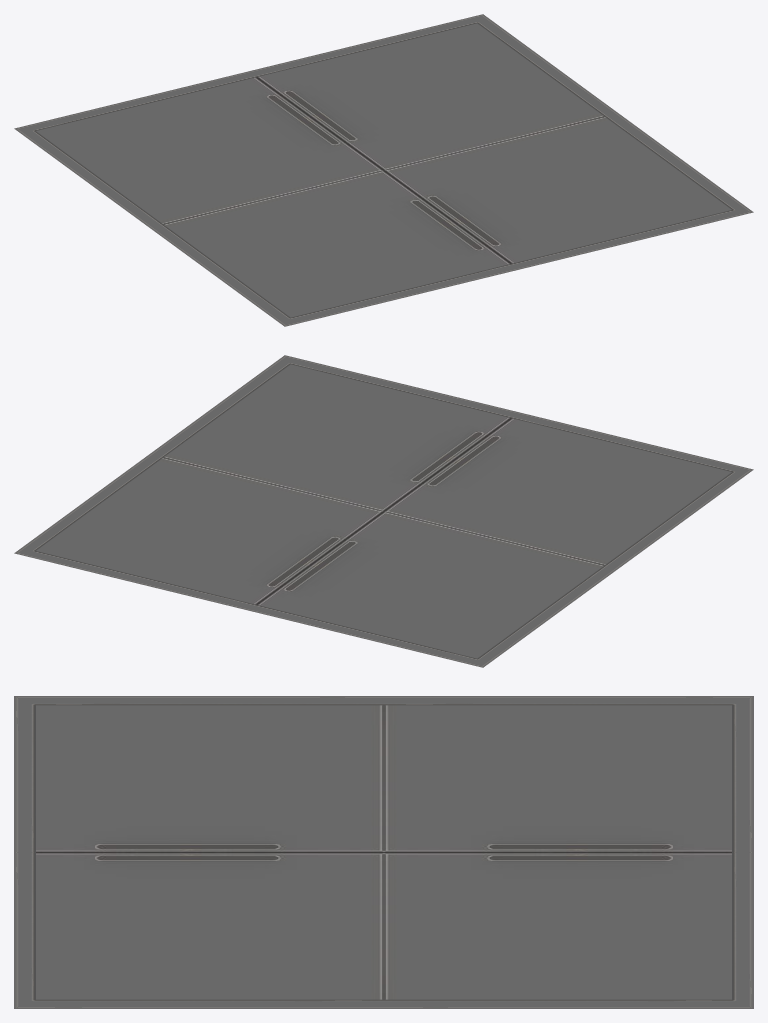
File: platform_squares.gltf
The picture shows the model from 3 angles, top to bottom: view 1: azimuth 30°, elevation 25°; view 2: azimuth 150°, elevation 25°; view 3: azimuth 270°, elevation 25°; orthographic projection. The views are drawn at different scales.
Parts seen in each view (by area): view 1: Platform_Squares; view 2: Platform_Squares; view 3: Platform_Squares.
Part boxes in pixels (<box>): Platform_Squares: <box>14,14,753,326</box>; Platform_Squares: <box>14,355,753,667</box>; Platform_Squares: <box>14,696,753,1008</box>.
Bounding box in the file's own units: 4 × 0 × 4.
Materials: 1 (1 with a texture image).
